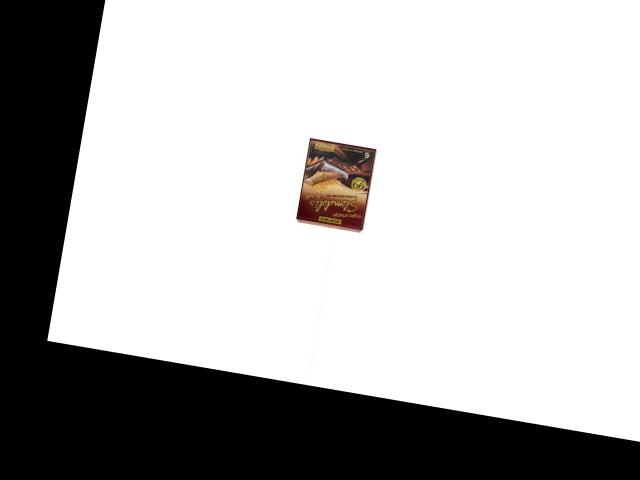chocolate: (296, 137, 376, 233)
